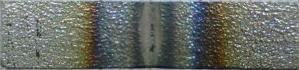soldas: (88, 1, 227, 68)
